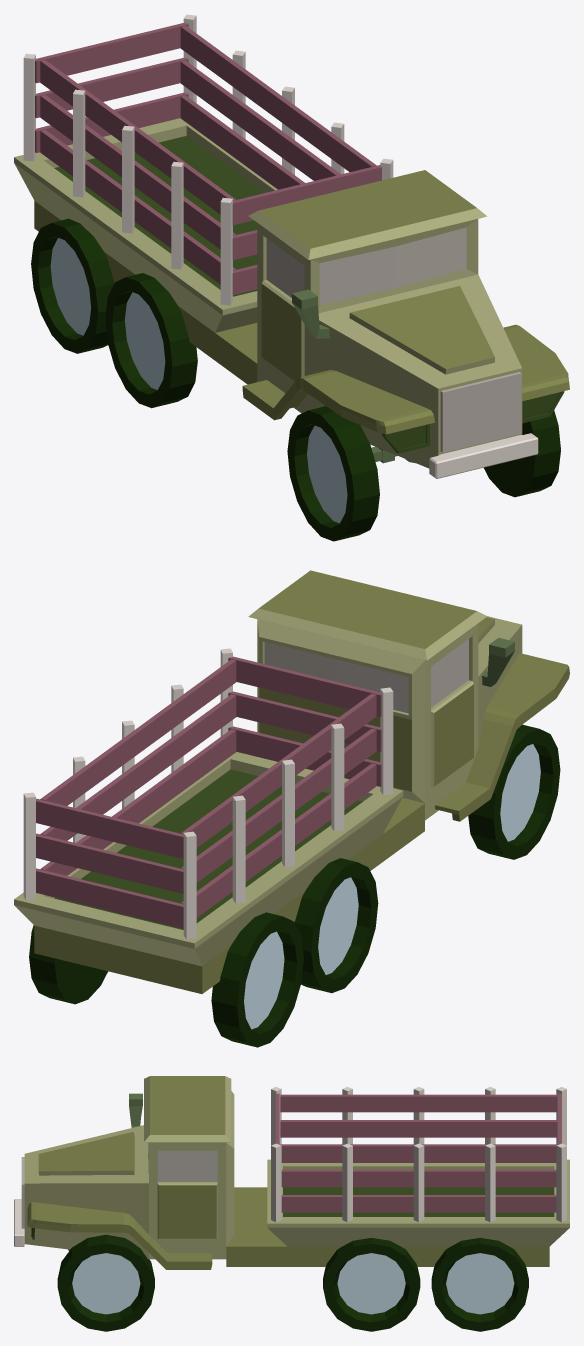
File: ural4320.glb
3 views of the same model, one above another, from view 1: azimuth 30°, elevation 25°; view 2: azimuth 150°, elevation 25°; view 3: azimuth 270°, elevation 25° (orthographic). The views are drawn at different scales.
Visible parts, largest first — view 1: Cube, Cube.010, Cube.008, Cube.011, Cylinder.003, Cylinder.001, Cube.001, Cube.009, Cylinder.005, Cube.003, Cylinder.002, Cube.005 (+2 smaller); view 2: Cube, Cube.008, Cube.010, Cube.011, Cube.009, Cylinder.005, Cylinder.001, Cylinder.003, Cube.001, Cylinder.007, Cube.006; view 3: Cube, Cube.010, Cube.008, Cylinder.002, Cylinder.007, Cylinder.006, Cube.009, Cube.001, Cube.011, Cube.005, Cube.006.
Part boxes in pixels (bbox=[...]): Cube: bbox=[248, 170, 522, 468]; Cube.010: bbox=[40, 25, 376, 284]; Cube.008: bbox=[14, 118, 277, 384]; Cube.011: bbox=[35, 23, 381, 294]; Cylinder.003: bbox=[287, 406, 379, 541]; Cylinder.001: bbox=[105, 273, 197, 408]; Cube.001: bbox=[242, 324, 569, 434]; Cube.009: bbox=[23, 14, 393, 305]; Cylinder.005: bbox=[31, 218, 114, 353]; Cube.003: bbox=[440, 372, 521, 452]; Cylinder.002: bbox=[484, 410, 560, 497]; Cube.005: bbox=[429, 433, 538, 478]; Cube: bbox=[248, 570, 522, 820]; Cube.008: bbox=[14, 752, 424, 993]; Cube.010: bbox=[40, 659, 376, 917]; Cube.011: bbox=[36, 656, 381, 928]; Cube.009: bbox=[23, 648, 393, 939]; Cylinder.005: bbox=[211, 912, 303, 1047]; Cylinder.001: bbox=[294, 858, 378, 993]; Cylinder.003: bbox=[468, 724, 560, 859]; Cube.001: bbox=[435, 653, 569, 821]; Cylinder.007: bbox=[29, 925, 107, 1004]; Cube.006: bbox=[482, 637, 514, 686]; Cube: bbox=[24, 1076, 234, 1259]; Cube.010: bbox=[280, 1094, 557, 1212]; Cube.008: bbox=[226, 1159, 569, 1266]; Cylinder.002: bbox=[57, 1234, 154, 1331]; Cylinder.007: bbox=[431, 1237, 528, 1331]; Cylinder.006: bbox=[323, 1237, 420, 1331]; Cube.009: bbox=[271, 1087, 566, 1222]; Cube.001: bbox=[27, 1202, 212, 1269]; Cube.011: bbox=[275, 1093, 561, 1144]; Cube.005: bbox=[14, 1199, 24, 1246]; Cube.006: bbox=[129, 1093, 142, 1127].
Bounding box in the file's own units: 1.16 × 1.33 × 3.54.
2 materials, 2 textured.
